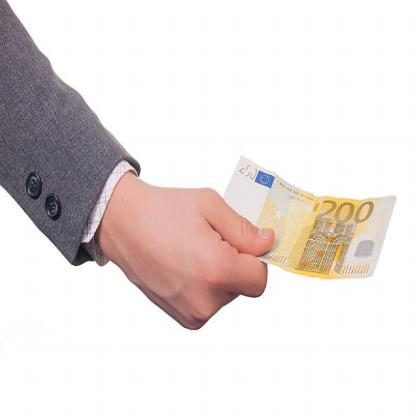billete: (220, 154, 396, 280)
